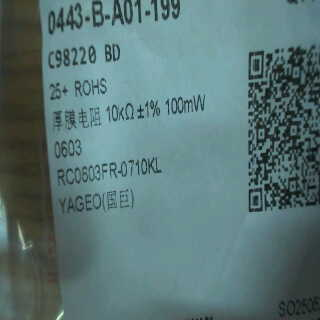10kR: (102, 101, 137, 126)
